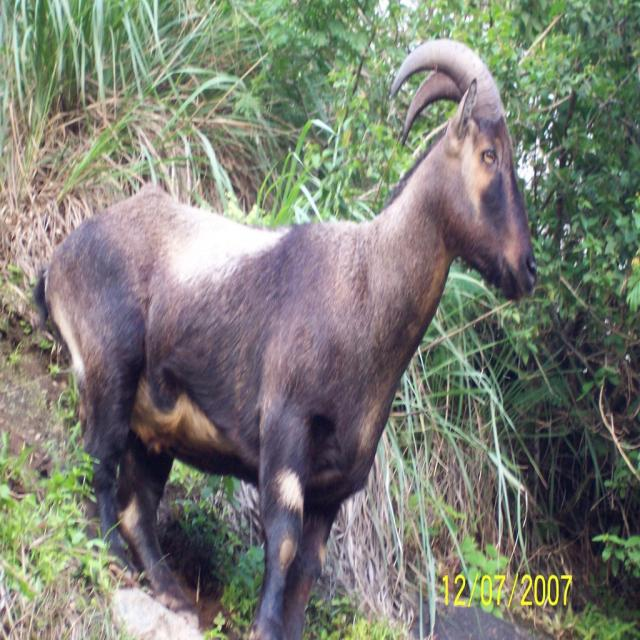Goat: (35, 40, 538, 640)
